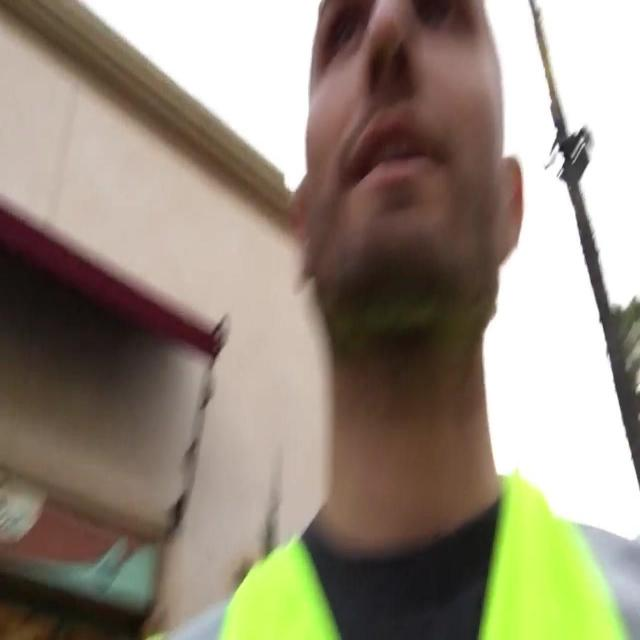Reflective-Jacket: (211, 470, 640, 640)
